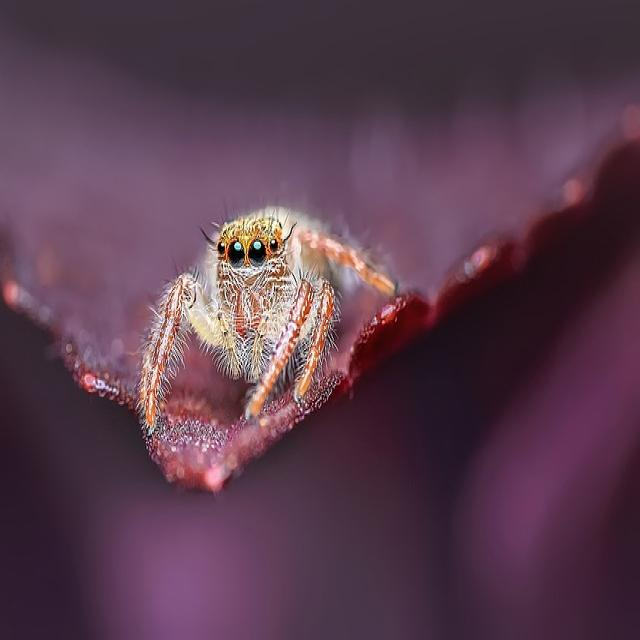spyder: (139, 207, 396, 435)
